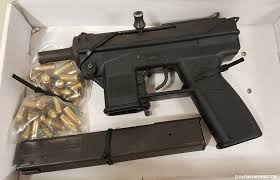gun: (30, 11, 269, 153)
